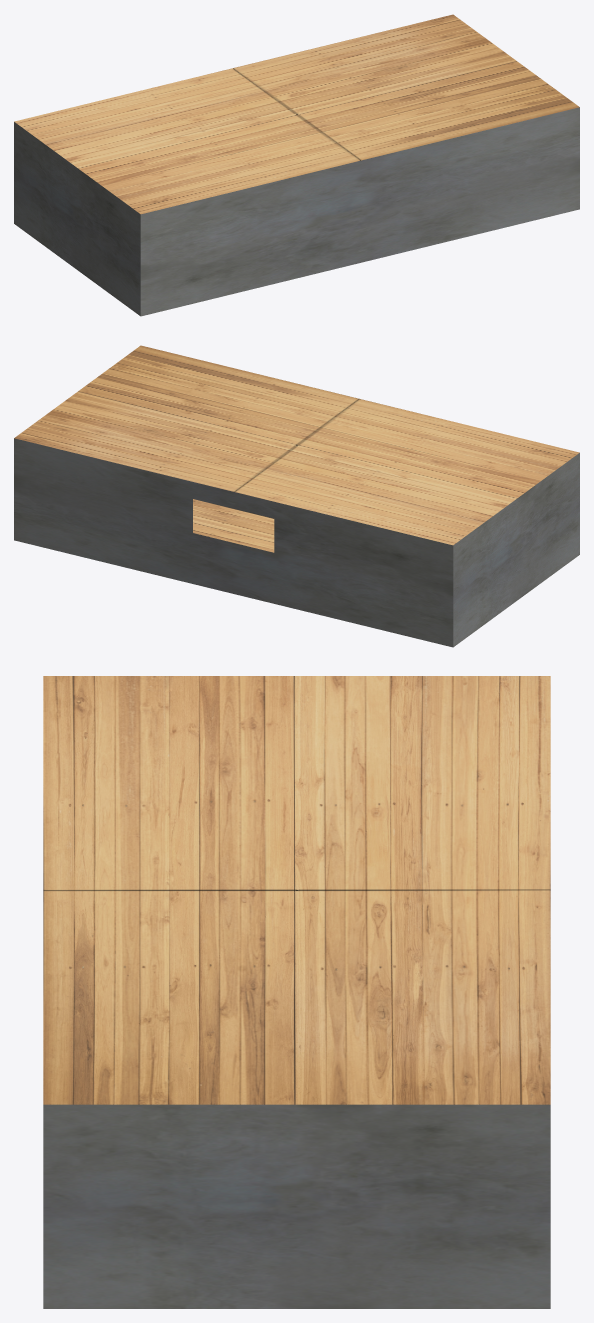
The model's file is turnhalle.obj.
The picture shows the model from 3 angles, top to bottom: view 1: azimuth 30°, elevation 25°; view 2: azimuth 150°, elevation 25°; view 3: azimuth 270°, elevation 25°; orthographic projection. The views are drawn at different scales.
Parts seen in each view (by area): view 1: Decke_Plane.006, linke_Wand_Plane.004, Rückwand_Plane.002; view 2: Decke_Plane.006, rechte_Wand_Plane.001, Rückwand_Plane.002, Boden_Plane; view 3: Decke_Plane.006, Vorderwand_Plane.003.
Boxes of the visible parts, x1=… form: Decke_Plane.006: x1=14, y1=14, x2=579, y2=214; linke_Wand_Plane.004: x1=140, y1=107, x2=579, y2=316; Rückwand_Plane.002: x1=14, y1=122, x2=140, y2=315; Decke_Plane.006: x1=14, y1=345, x2=579, y2=545; rechte_Wand_Plane.001: x1=14, y1=438, x2=453, y2=647; Rückwand_Plane.002: x1=453, y1=453, x2=579, y2=646; Boden_Plane: x1=193, y1=499, x2=274, y2=552; Decke_Plane.006: x1=43, y1=676, x2=550, y2=1104; Vorderwand_Plane.003: x1=43, y1=1104, x2=550, y2=1308.
Size of the model in its own units: 54 by 12 by 27.
6 materials, 6 textured.
